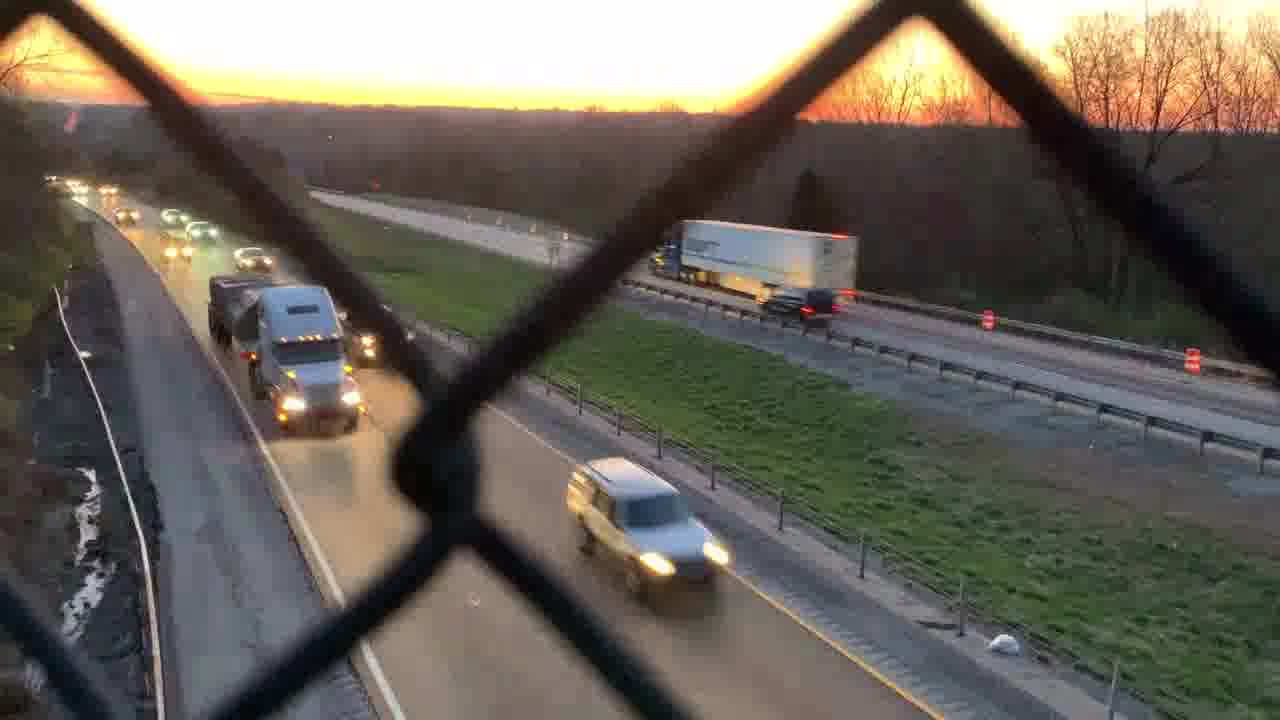heavyTruck: (207, 272, 362, 450), (641, 222, 859, 325)
largeCar: (561, 453, 734, 600)
